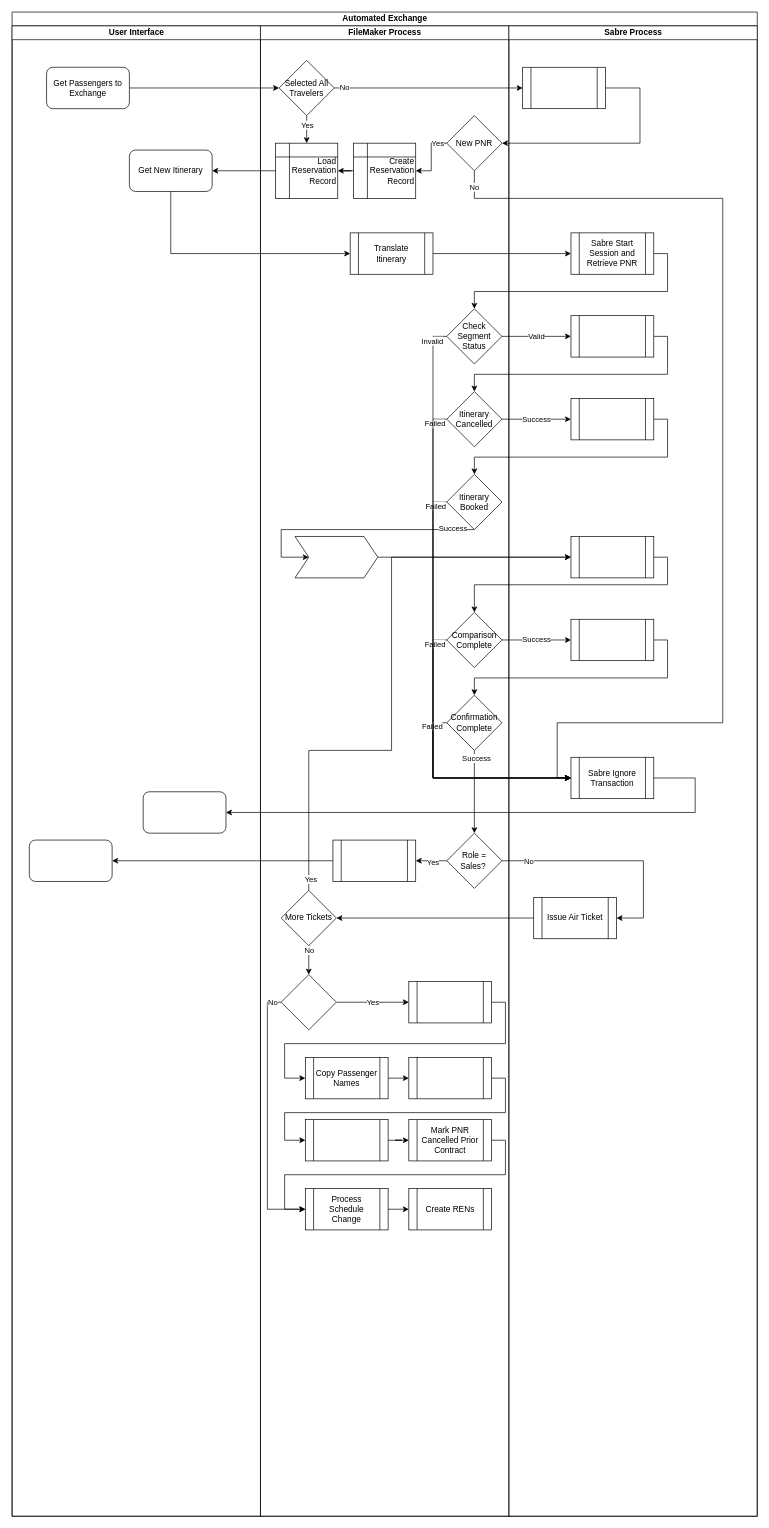
The diagram is 769 pixels wide and 1528 high, and some of its shapes have lost their labels. The centre of each missing label's shape, as x and y in pixels:
Copy Air Vendor Rules: the point at 450,1078
Did we Divide?: the point at 308,1002
Duplicate Contract: the point at 450,1002
Error Message: the point at 184,812
Sabre Automated Exchange Comparison: the point at 612,557
Sabre Automated Exchange Confirmation: the point at 612,640
Sabre Book Segments: the point at 612,419
Sabre Cancel Itinerary Segments: the point at 612,336
Sabre Divide Passengers: the point at 563,88
Send to Queue: the point at 374,860
Setup Pricing Qualifiers: the point at 336,557
Success Message: the point at 70,860
Update Sabre Address: the point at 346,1140
